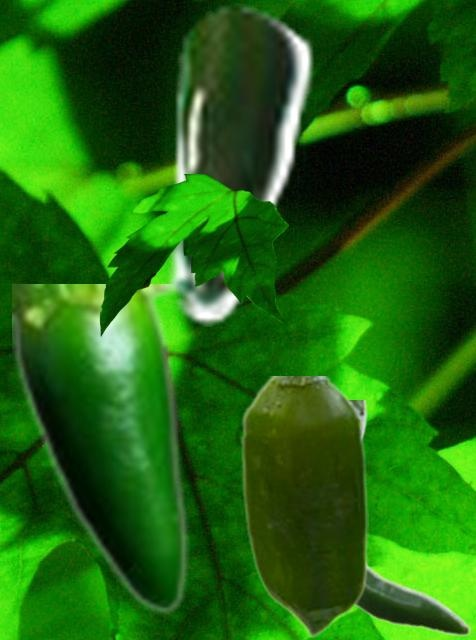green_chili: (12, 284, 188, 614), (160, 1, 315, 325), (240, 376, 367, 636), (351, 400, 470, 634)
